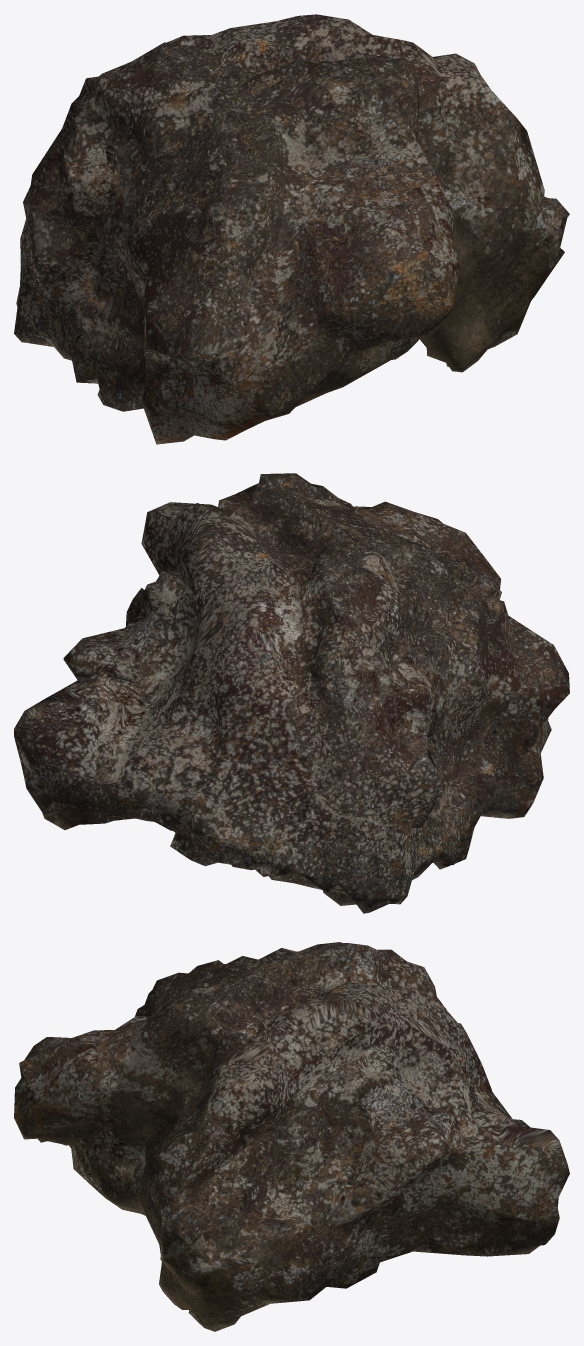
File: SM_yifwaaws_tier_2.gltf
3 renders of one model, top to bottom at view 1: azimuth 30°, elevation 25°; view 2: azimuth 150°, elevation 25°; view 3: azimuth 270°, elevation 25°, orthographic. The views are drawn at different scales.
Visible parts, largest first — view 1: yifwaaws_LOD2_TIER2_000; view 2: yifwaaws_LOD2_TIER2_000; view 3: yifwaaws_LOD2_TIER2_000.
Part boxes in pixels (x1,y1,x2,y2): yifwaaws_LOD2_TIER2_000: [14, 14, 569, 444]; yifwaaws_LOD2_TIER2_000: [14, 473, 569, 913]; yifwaaws_LOD2_TIER2_000: [14, 942, 569, 1331].
Bounding box in the file's own units: 0.1647 × 0.1166 × 0.1995.
Materials: 1 (1 with a texture image).
